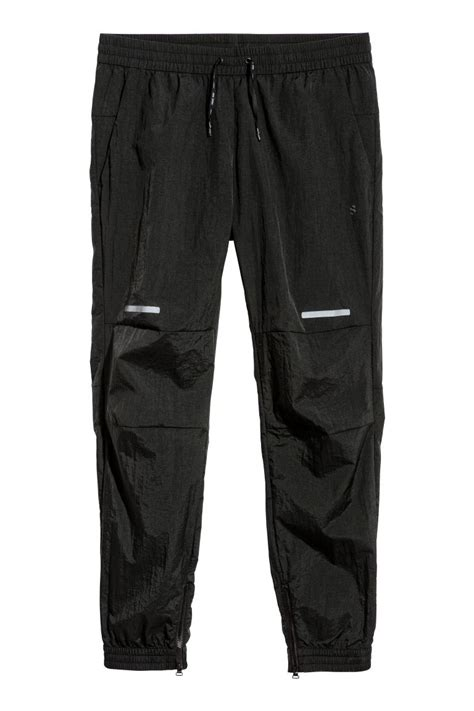nylon: (91, 33, 384, 675)
